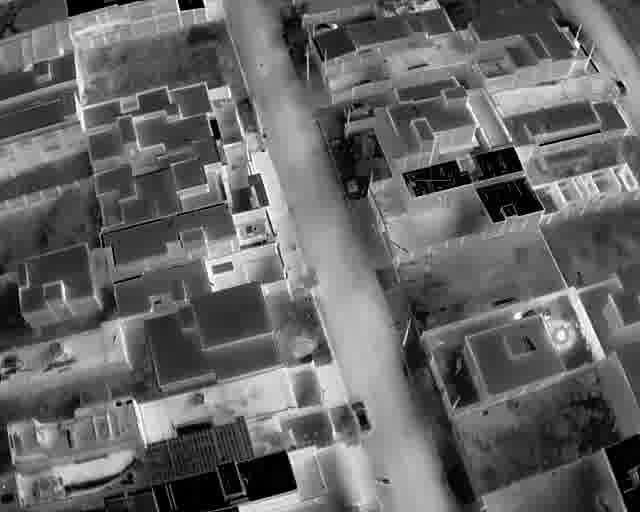car: (351, 400, 372, 432), (343, 101, 371, 117), (311, 22, 337, 37), (614, 76, 629, 97)
motorcycle: (374, 474, 392, 486)
